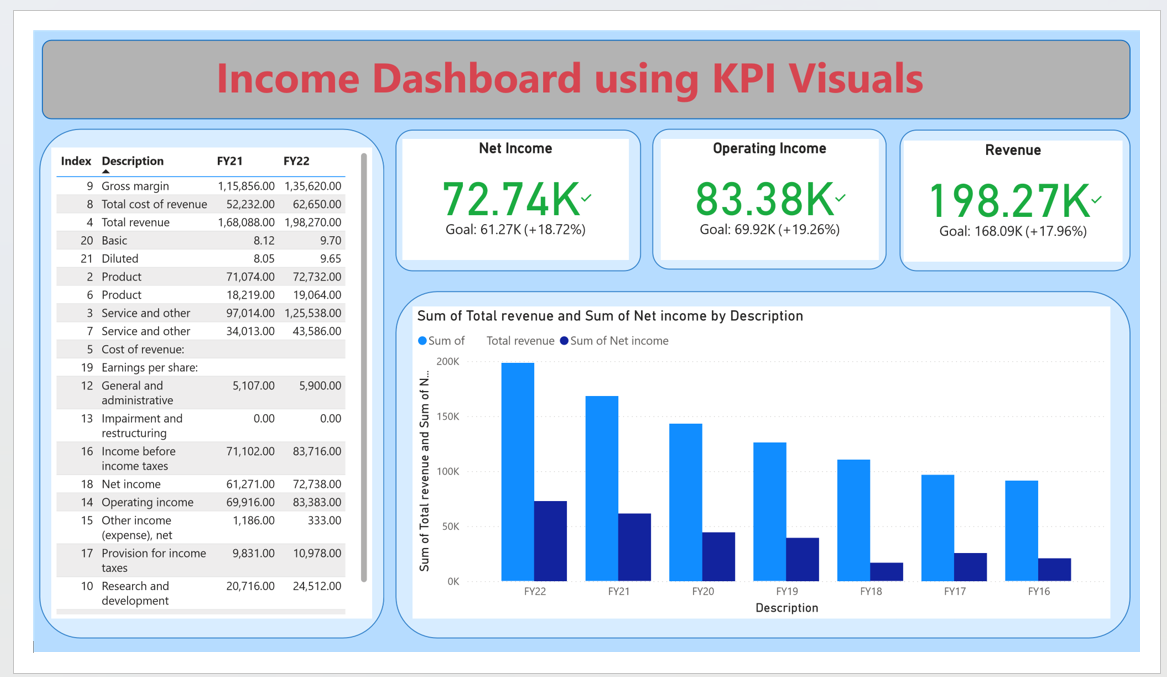

The page's visual inventory and layout, read from the dashboard file:
{"tool":"powerbi","page":{"name":"Page 1","canvas":[1280,720],"ordinal":0},"visuals":[{"type":"shape","box":[9.6,11,1259.7,91.9],"z":0},{"type":"shape","box":[6.9,113.9,399.3,590.1],"z":1000},{"type":"shape","box":[418.5,115.3,284,163.3],"z":2000},{"type":"shape","box":[716.3,113.9,270.3,163.3],"z":3000},{"type":"shape","box":[1001.7,115.3,267.6,163.3],"z":4000},{"type":"shape","box":[418.5,301.9,850.8,402.1],"z":5000},{"type":"tableEx","fields":{"Values":["Yearly Income Statements.Index","Yearly Income Statements.Description","Yearly Income Statements.FY21","Yearly Income Statements.FY22"]},"box":[20.6,135.8,371.9,544.8],"z":6000},{"type":"kpi","title":"Net Income","fields":{"TrendLine":["Yearly Income Statements.Description"],"Goal":["Sum(Net Income.FY21)"],"Indicator":["Sum(Net Income.FY22)"]},"box":[426.8,126.2,262.1,140],"z":7000},{"type":"textbox","box":[124.9,19.2,990.7,71.4],"z":8000},{"type":"kpi","title":"Operating Income","fields":{"TrendLine":["Operating Income.Description"],"Goal":["Sum(Operating Income.FY21)"],"Indicator":["Sum(Operating Income.FY22)"]},"box":[725.9,126.2,252.5,140],"z":9000},{"type":"kpi","title":"Revenue","fields":{"Goal":["Sum(Revenue.FY21)"],"Indicator":["Sum(Revenue.FY22)"],"TrendLine":["Revenue.Description"]},"box":[1007.2,127.6,252.5,140],"z":10000},{"type":"clusteredColumnChart","fields":{"Category":["Transpose Table income.Description"],"Y":["Sum(Transpose Table income.      Total revenue)","Sum(Transpose Table income.Net income)"]},"box":[439.1,319.7,806.9,360.9],"z":11000}]}

Visuals, with their boxes on the page's 1280x720 design canvas (x1, y1, x2, y2). These are canvas units, not pixel positions in the 1167x677 screenshot, which may show the page scaled, cropped or inside an application window:
shape: l=10, t=11, r=1269, b=103
shape: l=7, t=114, r=406, b=704
shape: l=418, t=115, r=702, b=279
shape: l=716, t=114, r=987, b=277
shape: l=1002, t=115, r=1269, b=279
shape: l=418, t=302, r=1269, b=704
tableEx - Yearly Income Statements.Index x Yearly Income Statements.Description: l=21, t=136, r=392, b=681
"Net Income" kpi: l=427, t=126, r=689, b=266
textbox: l=125, t=19, r=1116, b=91
"Operating Income" kpi: l=726, t=126, r=978, b=266
"Revenue" kpi: l=1007, t=128, r=1260, b=268
clusteredColumnChart - Transpose Table income.Description x Sum(Transpose Table income.      Total revenue): l=439, t=320, r=1246, b=681
